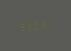nine: (25, 20, 31, 31), (18, 21, 24, 31)
one: (46, 19, 52, 29)
six: (39, 19, 45, 30)
zero: (32, 20, 38, 30)
